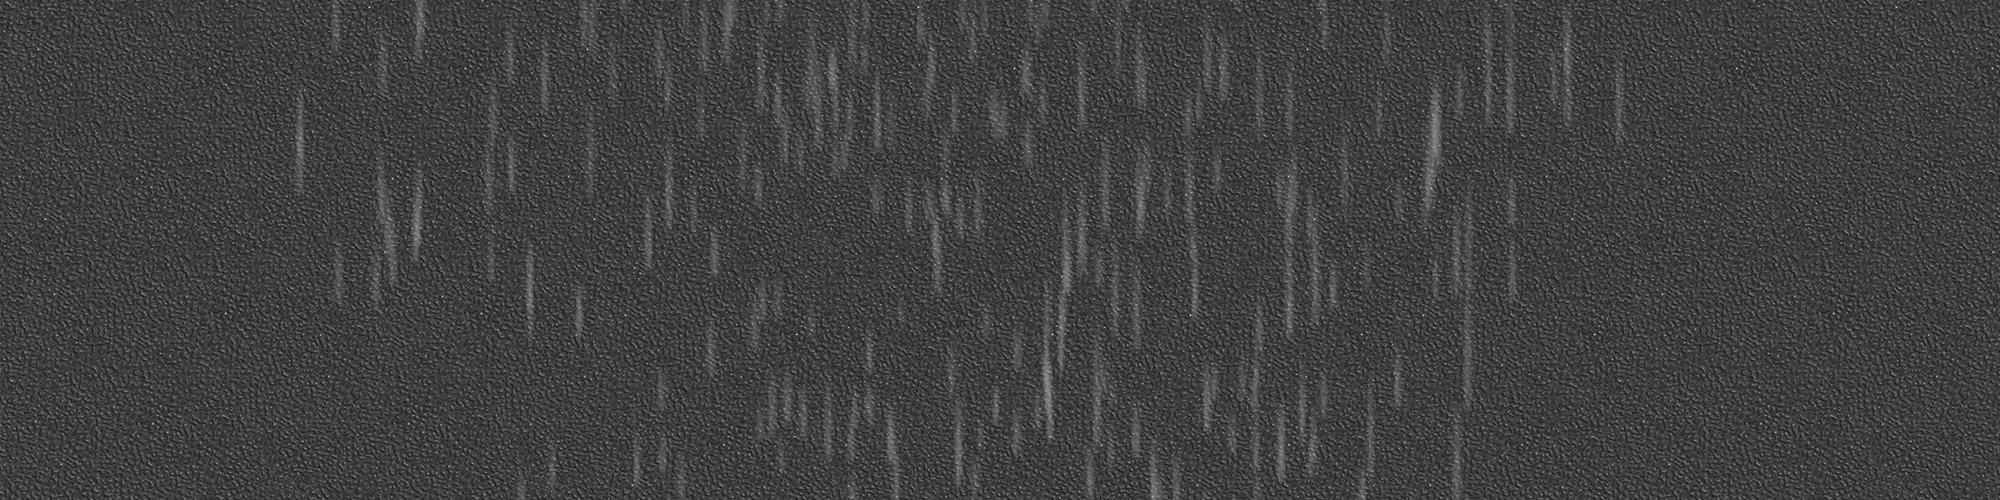Streaks: (798, 26, 879, 172), (503, 128, 551, 352), (898, 179, 989, 298), (1449, 182, 1491, 412), (1173, 61, 1209, 323), (1046, 167, 1083, 378), (1235, 298, 1273, 500), (1276, 364, 1333, 489), (741, 370, 807, 474), (1480, 6, 1523, 156), (565, 74, 611, 214), (1265, 163, 1300, 347), (1306, 179, 1344, 335), (366, 140, 401, 312), (751, 36, 797, 163), (1125, 406, 1187, 499), (671, 1, 749, 74), (1193, 23, 1245, 121), (1111, 9, 1156, 122), (685, 176, 724, 304), (1031, 272, 1059, 441), (1548, 11, 1584, 140), (628, 427, 690, 499), (870, 68, 898, 226), (364, 26, 406, 130), (1085, 327, 1121, 448), (1128, 122, 1159, 253), (559, 263, 598, 366), (281, 75, 312, 203), (744, 270, 793, 352), (945, 409, 990, 495), (731, 122, 773, 212), (531, 19, 565, 128), (1085, 235, 1122, 335), (1353, 369, 1381, 499), (1129, 251, 1159, 370), (1503, 179, 1534, 292), (1608, 57, 1642, 165), (1093, 131, 1125, 239), (631, 193, 665, 295), (1420, 85, 1445, 216), (1245, 36, 1273, 151), (1446, 403, 1480, 500), (1020, 6, 1050, 115), (645, 140, 681, 228), (645, 26, 677, 121), (511, 439, 561, 500), (929, 142, 963, 228), (1068, 32, 1094, 143), (977, 89, 1029, 145), (481, 71, 494, 298), (879, 403, 908, 500), (1182, 358, 1224, 425), (835, 83, 861, 190), (689, 311, 726, 383), (403, 3, 437, 77), (408, 162, 432, 265), (839, 4, 886, 54), (569, 6, 608, 62), (816, 384, 839, 477), (1281, 62, 1302, 156), (325, 239, 351, 318), (598, 36, 628, 103), (916, 46, 941, 122), (648, 356, 681, 415), (1011, 122, 1046, 179), (960, 6, 989, 73), (945, 75, 969, 152), (1077, 437, 1106, 500), (494, 9, 518, 83), (844, 386, 864, 478), (691, 94, 719, 157), (949, 6, 1001, 40), (1366, 89, 1397, 145), (1389, 167, 1413, 235), (1202, 151, 1233, 202), (1329, 124, 1353, 190), (1006, 323, 1037, 375), (1453, 48, 1473, 122), (901, 1, 934, 46), (1311, 5, 1341, 55), (1376, 6, 1406, 56), (1346, 235, 1372, 288), (1158, 161, 1182, 219), (1009, 398, 1031, 459), (985, 372, 1003, 446), (1385, 347, 1406, 411), (974, 295, 997, 349), (1429, 247, 1446, 314), (857, 321, 881, 370), (888, 290, 913, 335), (1222, 390, 1242, 446), (323, 5, 341, 69), (944, 360, 969, 399), (841, 469, 872, 499), (760, 10, 798, 34), (858, 375, 878, 423), (804, 312, 825, 355)
